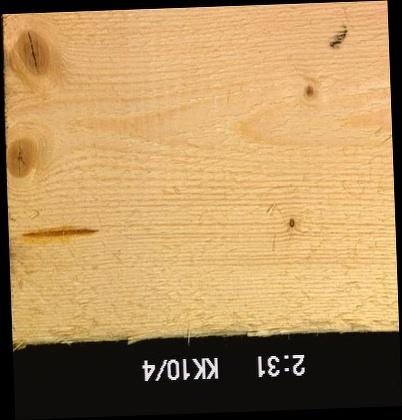dry_knot: (285, 215, 298, 229)
sound_knot: (10, 28, 55, 82), (5, 133, 40, 180), (301, 81, 316, 100)
